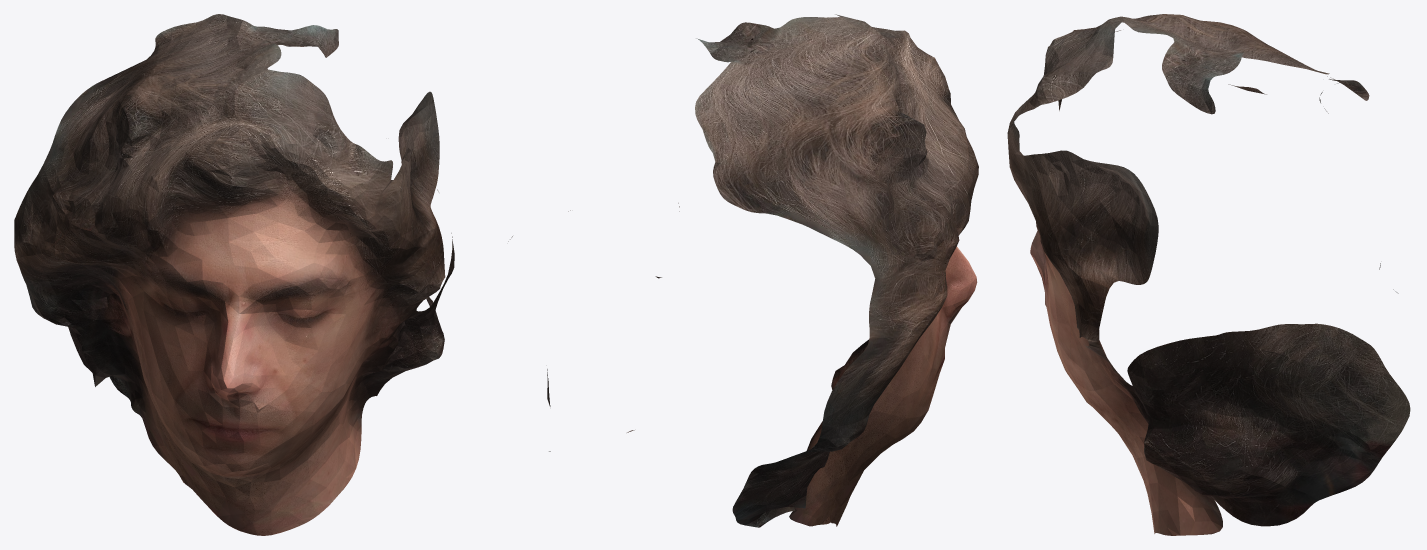
File: BUSTO_8.glb
3 renders of one model, left to right at view 1: azimuth 30°, elevation 25°; view 2: azimuth 150°, elevation 25°; view 3: azimuth 270°, elevation 25°, orthographic. The views are drawn at different scales.
Visible parts, largest first — view 1: Mesh_0.008; view 2: Mesh_0.008; view 3: Mesh_0.008.
Boxes of the visible parts, x1,y1,x2,y2 form: Mesh_0.008: [14, 14, 454, 535]; Mesh_0.008: [508, 14, 978, 527]; Mesh_0.008: [1007, 14, 1410, 535].
Bounding box in the file's own units: 3.21 × 3.95 × 2.94.
Materials: 1 (1 with a texture image).
